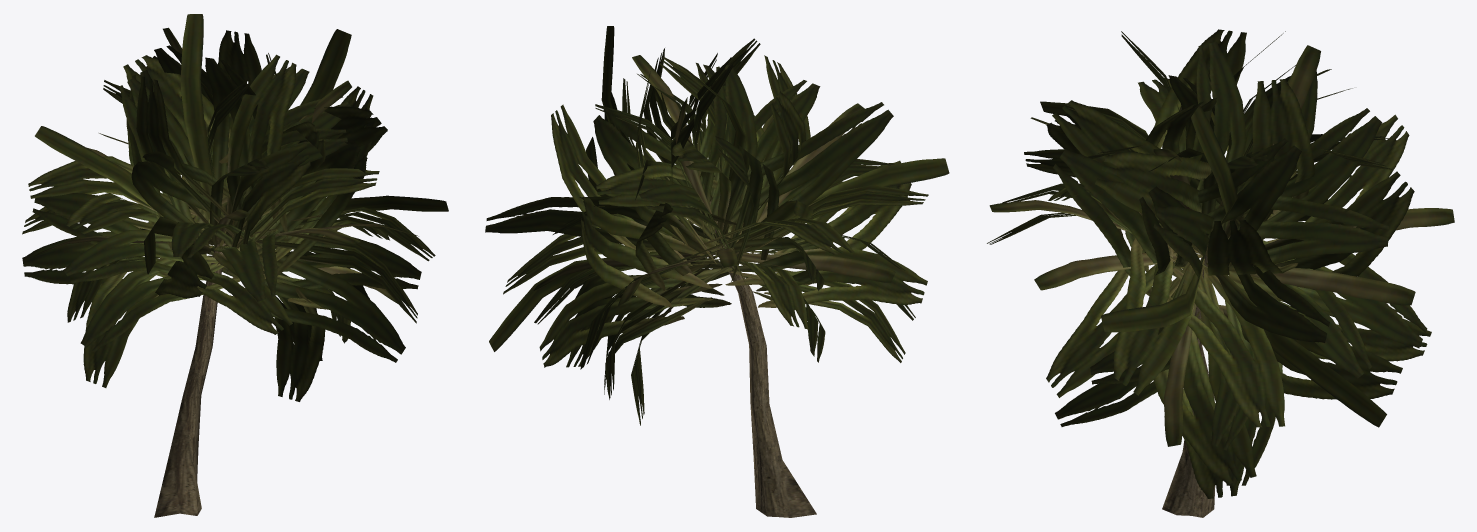
The model's file is palm4.glb.
3 renders of one model, left to right at view 1: azimuth 30°, elevation 25°; view 2: azimuth 150°, elevation 25°; view 3: azimuth 270°, elevation 25°, orthographic. The views are drawn at different scales.
Visible parts, largest first — view 1: Palm4; view 2: Palm4; view 3: Palm4.
Boxes of the visible parts, x1,y1,x2,y2 form: Palm4: [22, 14, 448, 517]; Palm4: [485, 26, 949, 517]; Palm4: [987, 29, 1454, 517].
Bounding box in the file's own units: 8.05 × 8.58 × 7.42.
2 materials, 2 textured.
